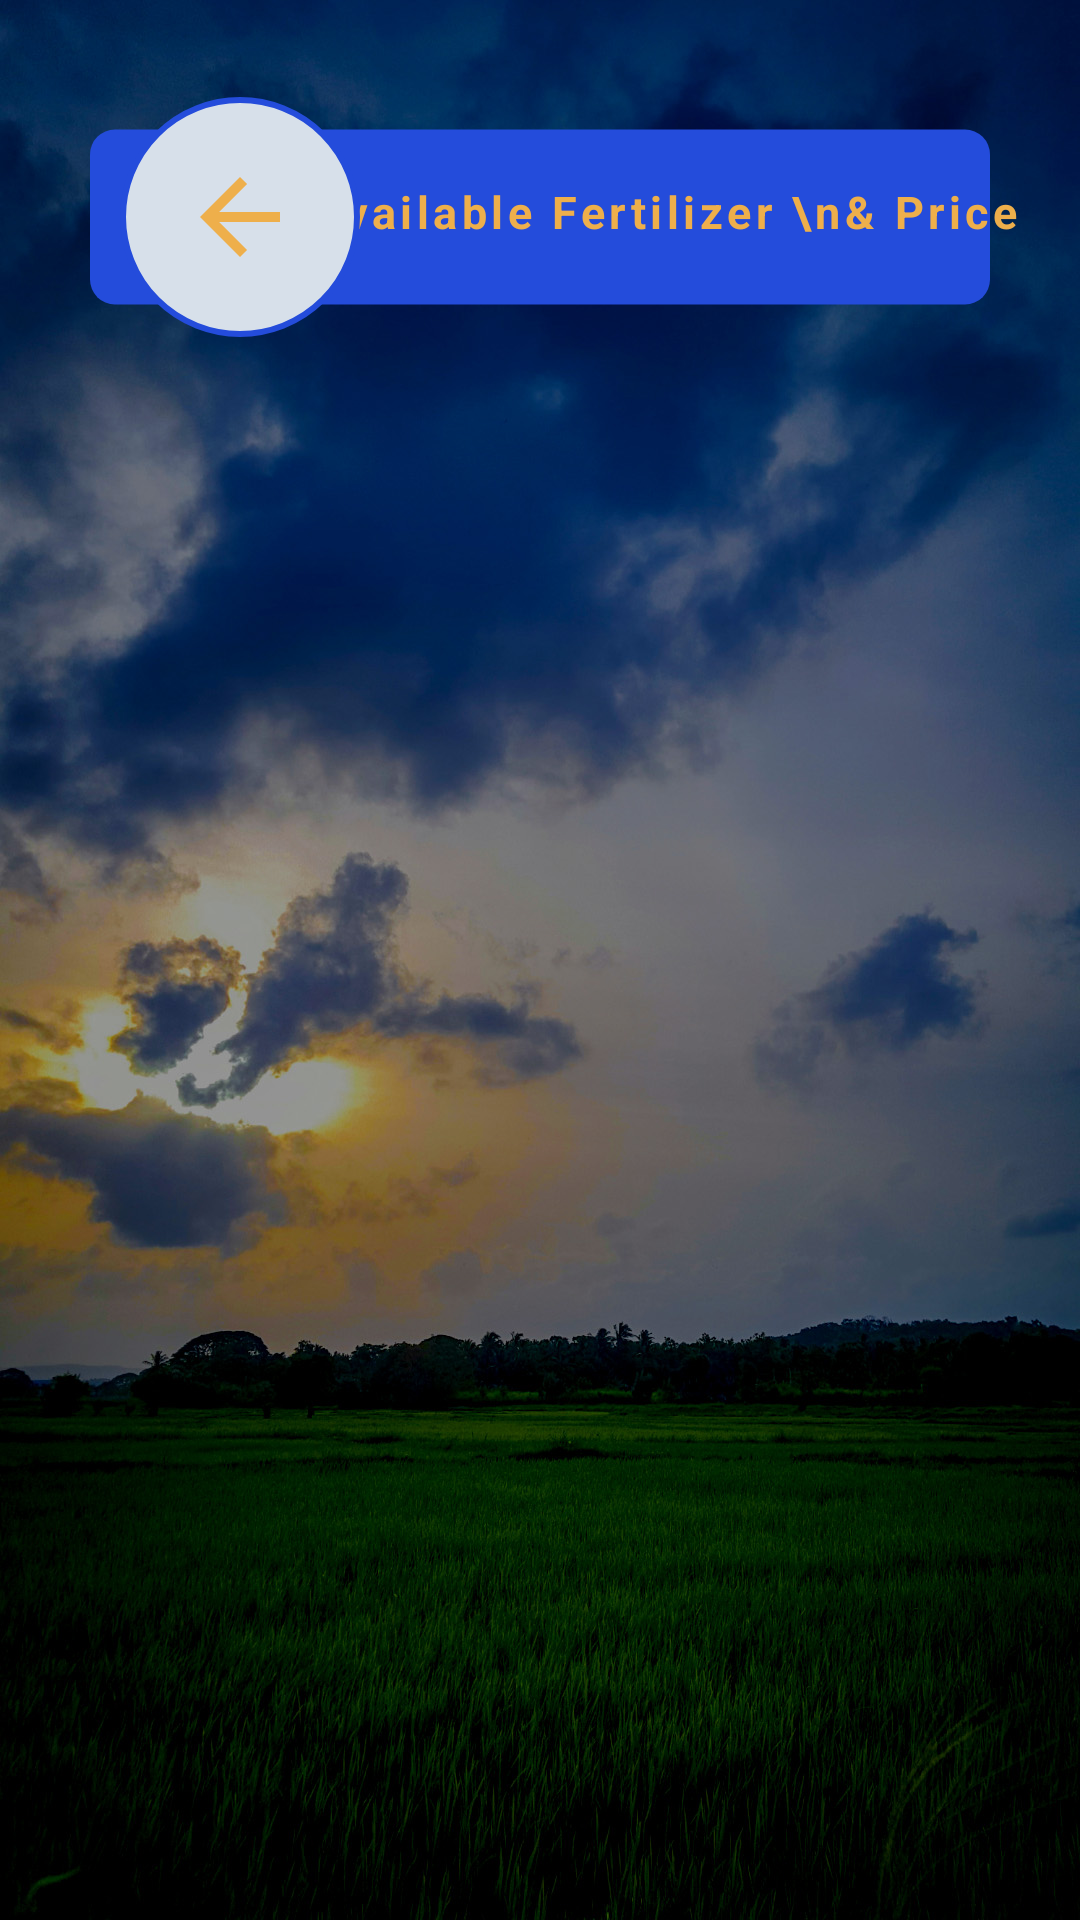

Icons on this 1080×1920 Android screen, each with the point to tap as point (x, y):
arrow back: point (240, 217)
